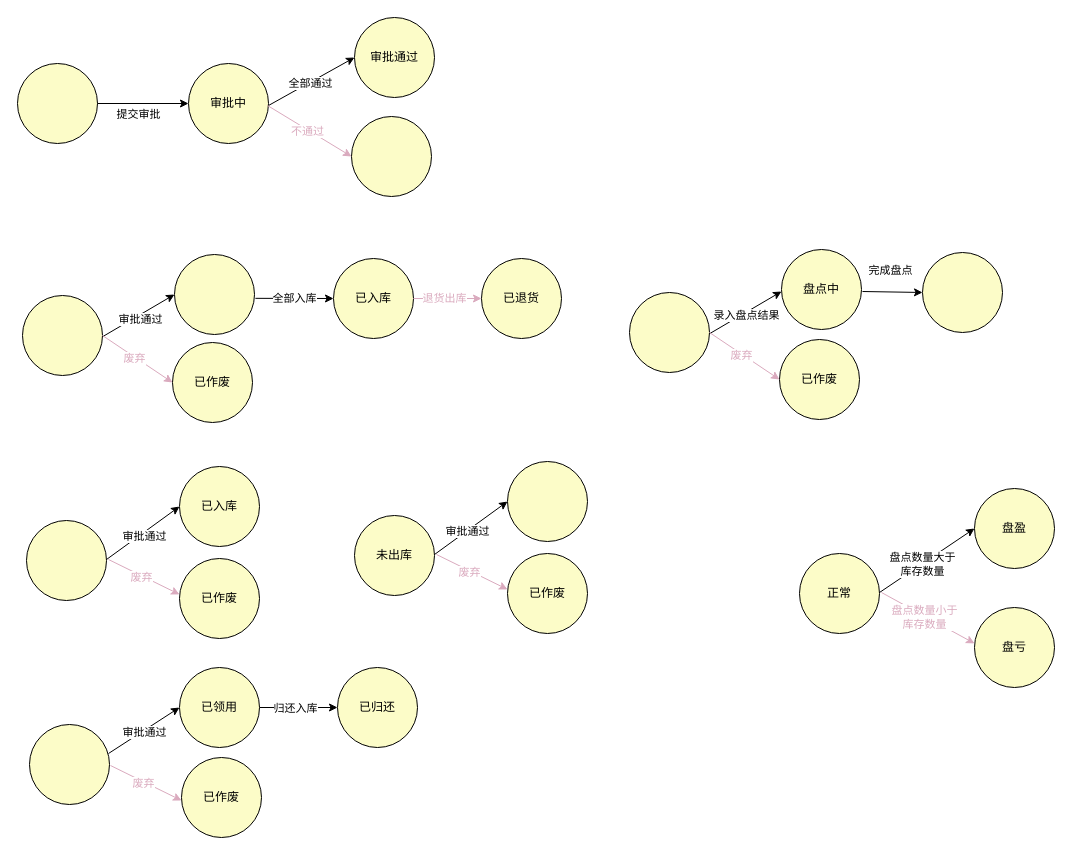
Some shapes in this 1072 by 855 pixel diagram are drawn without their labels. Here are the shapes that lost their labels. From the top down, the centre of each, then its label:
At (57,103): "待审批".
At (391,156): "审批不通过".
At (214,294): "已采购".
At (962,292): "结束盘点".
At (62,335): "未采购".
At (669,332): "未盘点".
At (547,501): "已出库".
At (66,560): "未入库".
At (69,764): "未领用".
